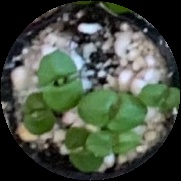Basil: (38, 53, 82, 110), (82, 90, 146, 129), (64, 128, 104, 173), (85, 129, 140, 155), (23, 95, 56, 134), (139, 82, 180, 111)
